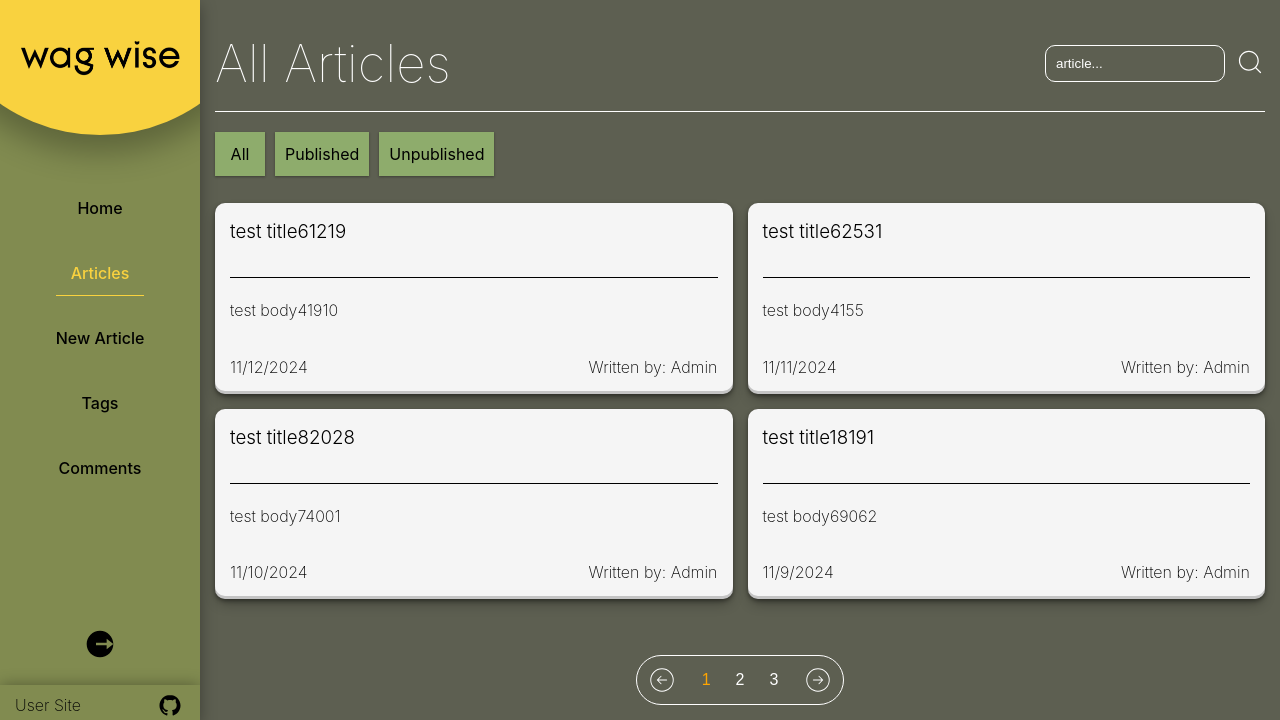
Test: Article route user event tests › Selecting unpublished filter should update title and articles
Click the link "Unpublished" at (437, 154), box [379,132,494,176]
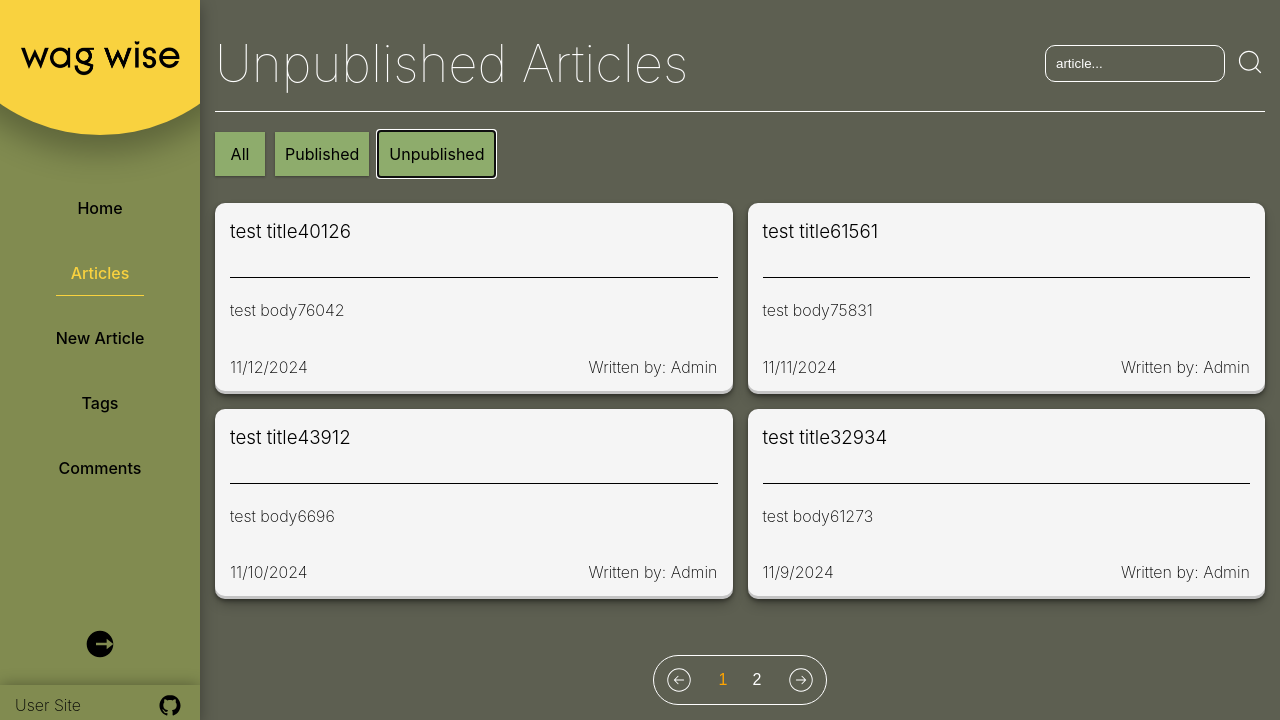
Check: the heading "Unpublished Articles" is shown, box [215,15,688,111]
